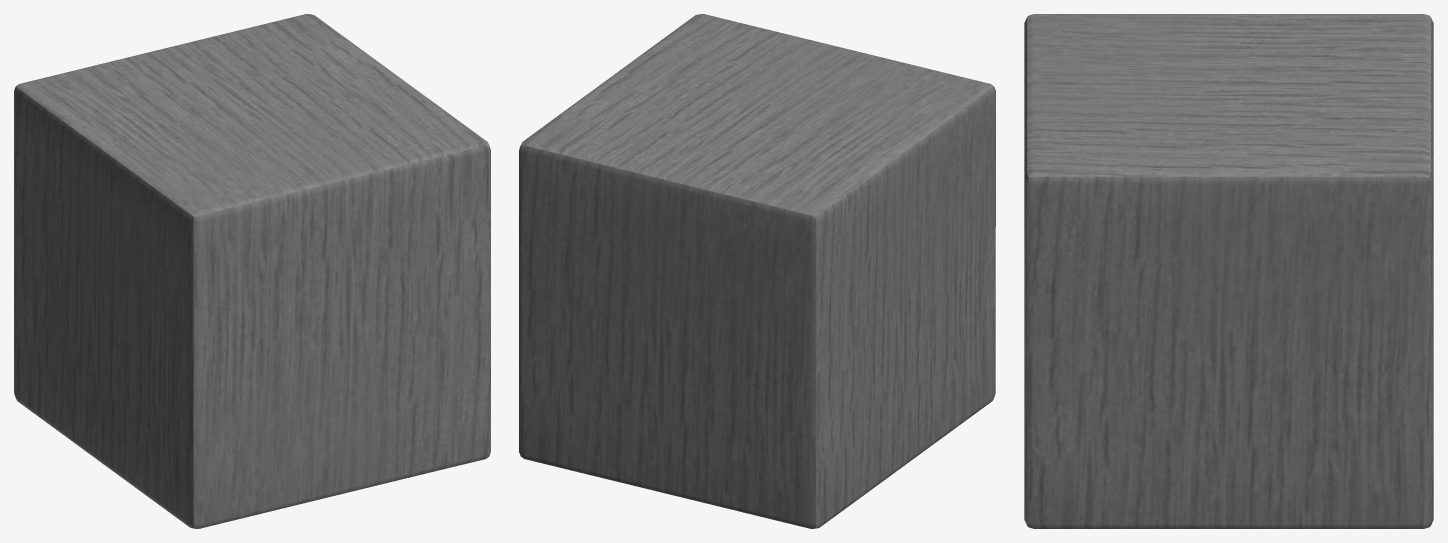
File: CatBaseBlock.obj
3 renders of one model, left to right at view 1: azimuth 30°, elevation 25°; view 2: azimuth 150°, elevation 25°; view 3: azimuth 270°, elevation 25°, orthographic. The views are drawn at different scales.
Parts seen in each view (by area): view 1: polySurface38 polySurface36 polySurface33 polySurface32 polySurf; view 2: polySurface38 polySurface36 polySurface33 polySurface32 polySurf; view 3: polySurface38 polySurface36 polySurface33 polySurface32 polySurf.
Boxes of the visible parts, x1,y1,x2,y2 form: polySurface38 polySurface36 polySurface33 polySurface32 polySurf: (14,14,490,528); polySurface38 polySurface36 polySurface33 polySurface32 polySurf: (519,14,995,528); polySurface38 polySurface36 polySurface33 polySurface32 polySurf: (1024,14,1433,528).
Size of the model in its own units: 59.69 by 60.2 by 62.5.
Materials: 1 (1 with a texture image).
